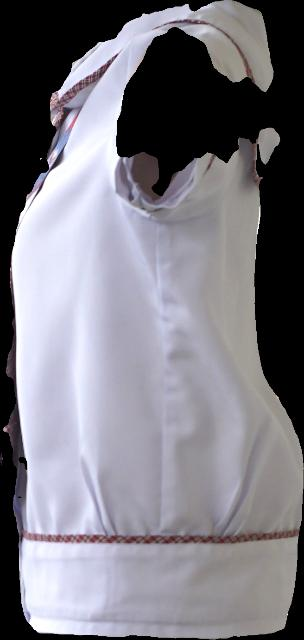pologirl: (3, 0, 303, 639)
